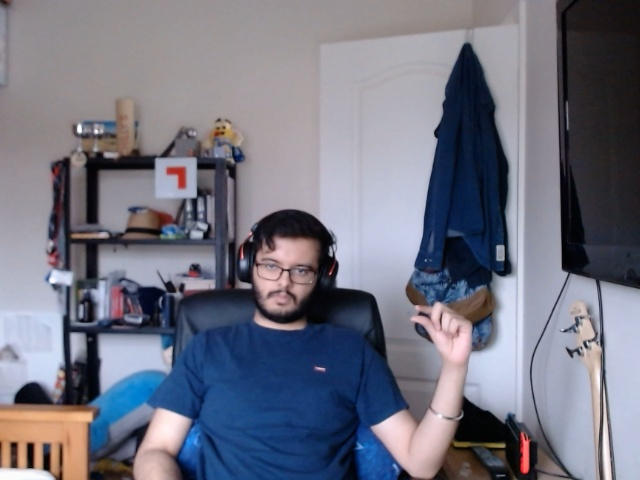Small: (388, 297, 490, 364)
